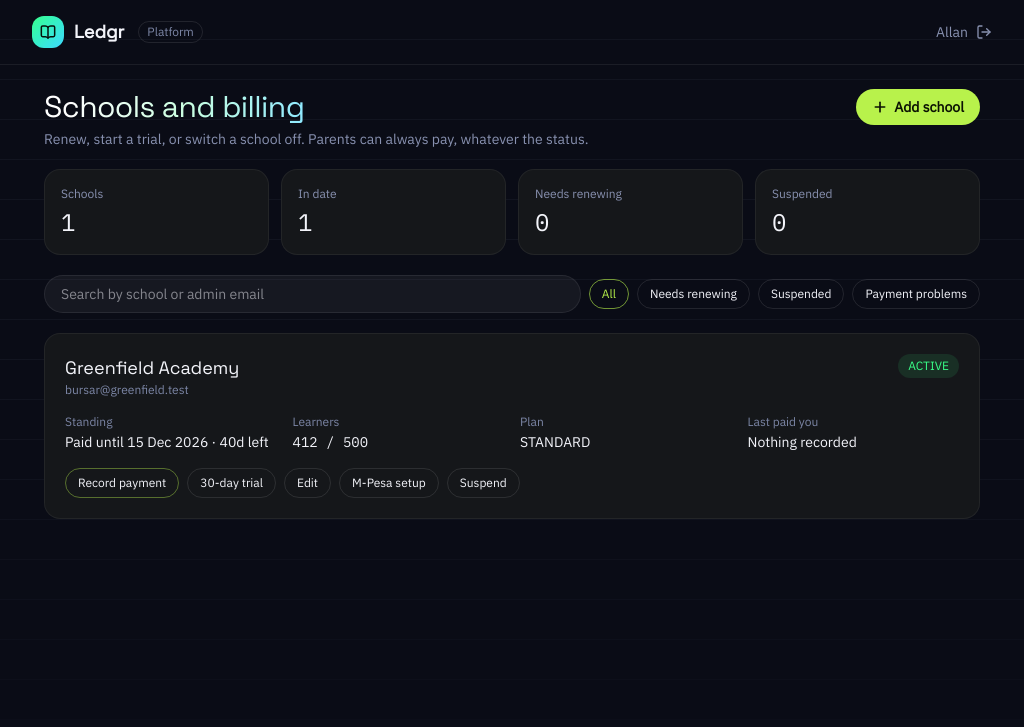
Test: recording what a school paid › books the payment with its months, says what happened, and refreshes the school
Expected: the heading "Greenfield Academy" is shown, [65, 354, 239, 382]
Expected: the text "Nothing recorded" is shown, [748, 433, 857, 451]
Click the button "Record payment".
click(122, 483)  # box [65, 468, 179, 498]
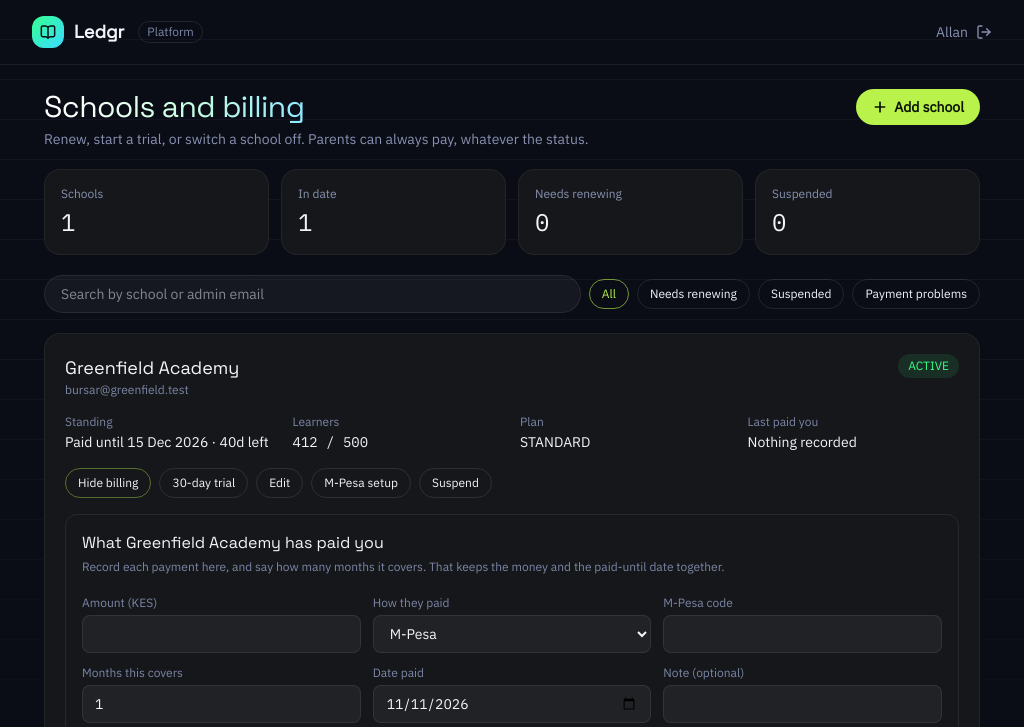
Expected: the field labelled "Amount (KES)" is shown
Type "15000" into the field labelled "Amount (KES)".
click(221, 634); type("15000")  # box [82, 615, 361, 653]
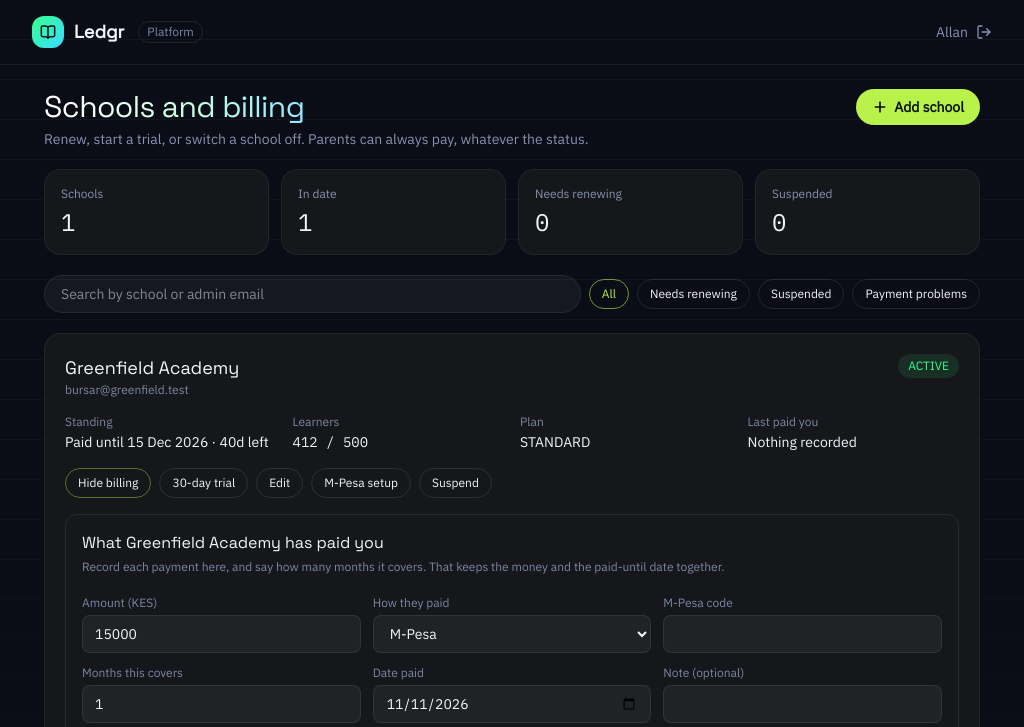
Type " SJK4X2L9QP " into the field labelled "M-Pesa code".
click(803, 634); type(" SJK4X2L9QP ")  # box [663, 615, 942, 653]
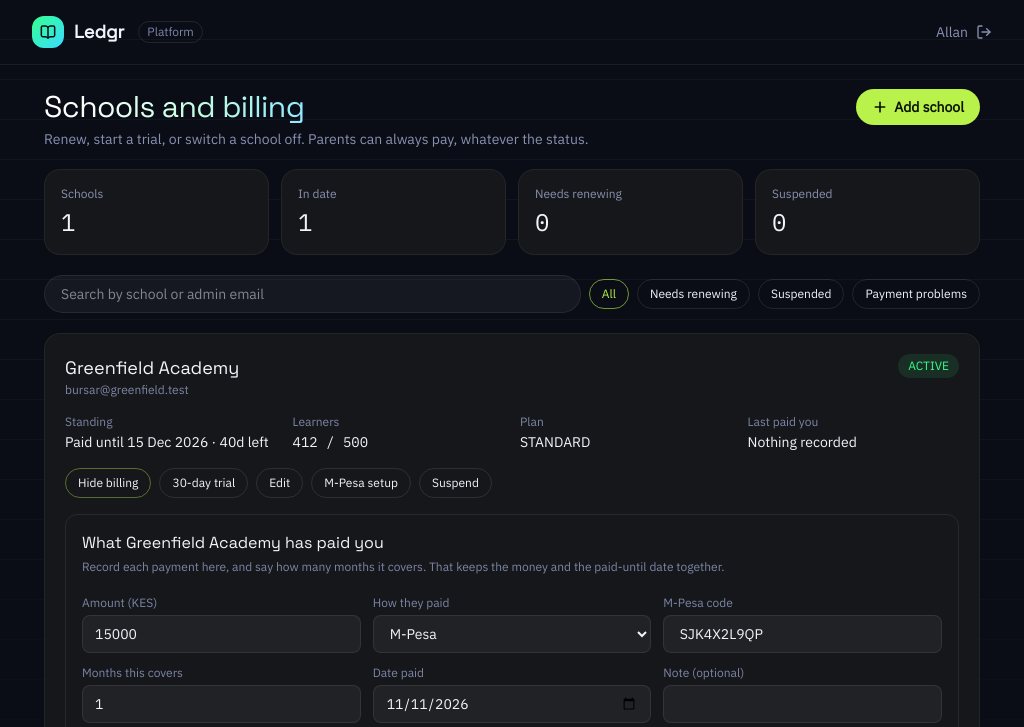
Replace the text in the number field labelled "Months this covers" with "3" at (221, 704), box [82, 685, 361, 723]
(page scrolled)
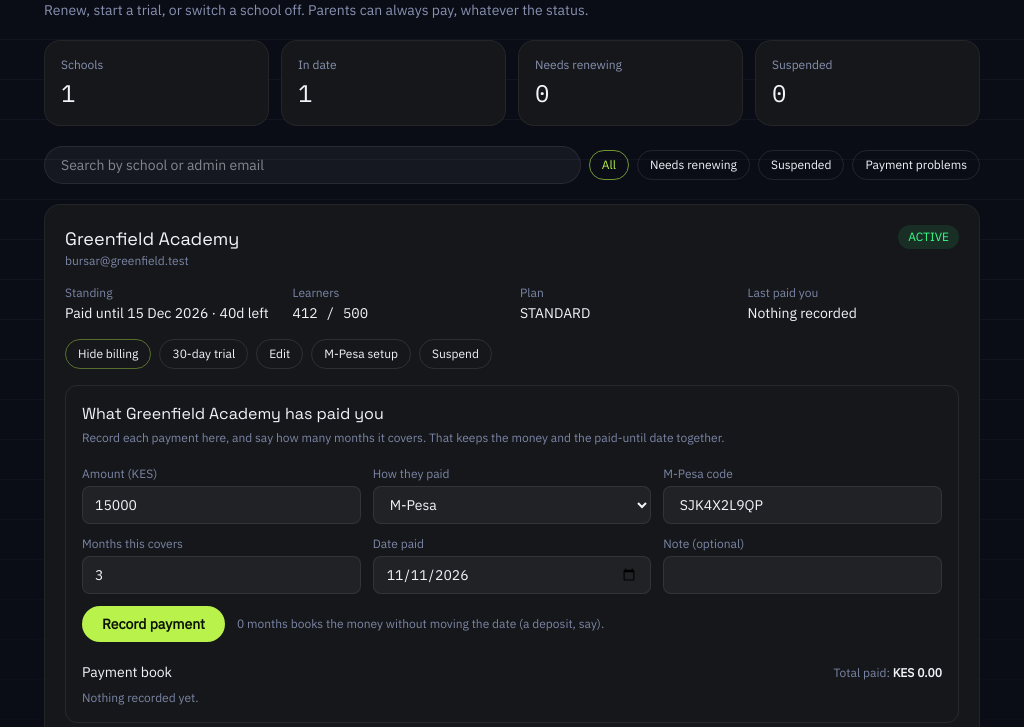
Click the button "Record payment".
click(154, 624)  # box [82, 606, 225, 642]
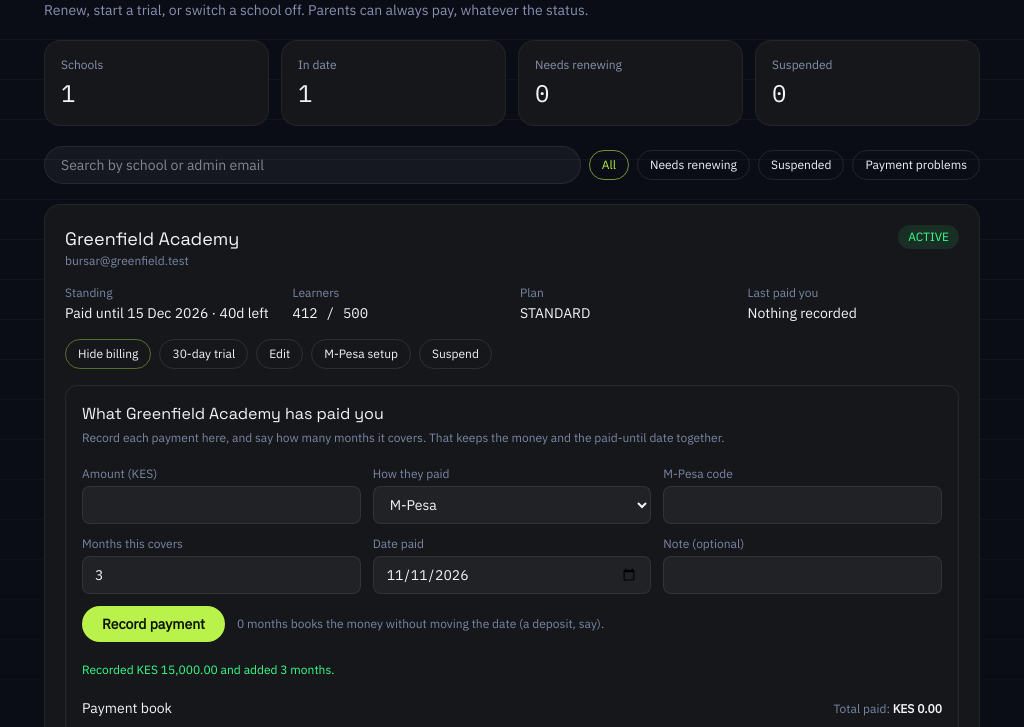
Expected: the message shows "Recorded KES 15,000.00 and added 3 months", [82, 662, 334, 677]
